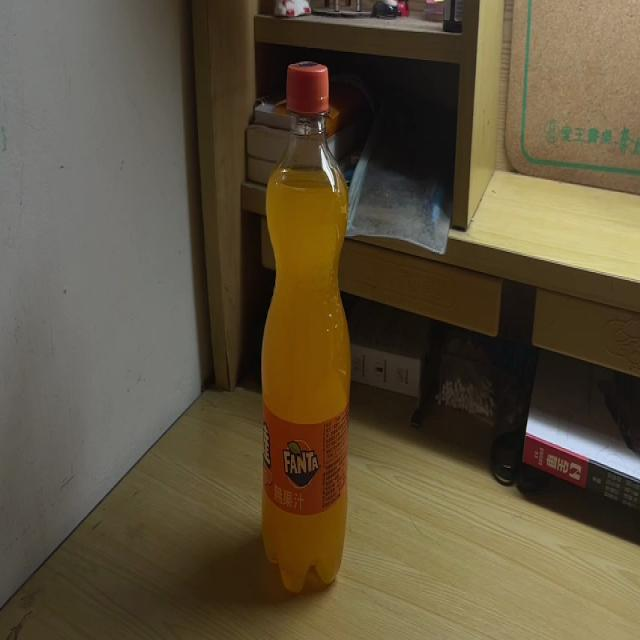Fanta: (260, 61, 352, 599)
